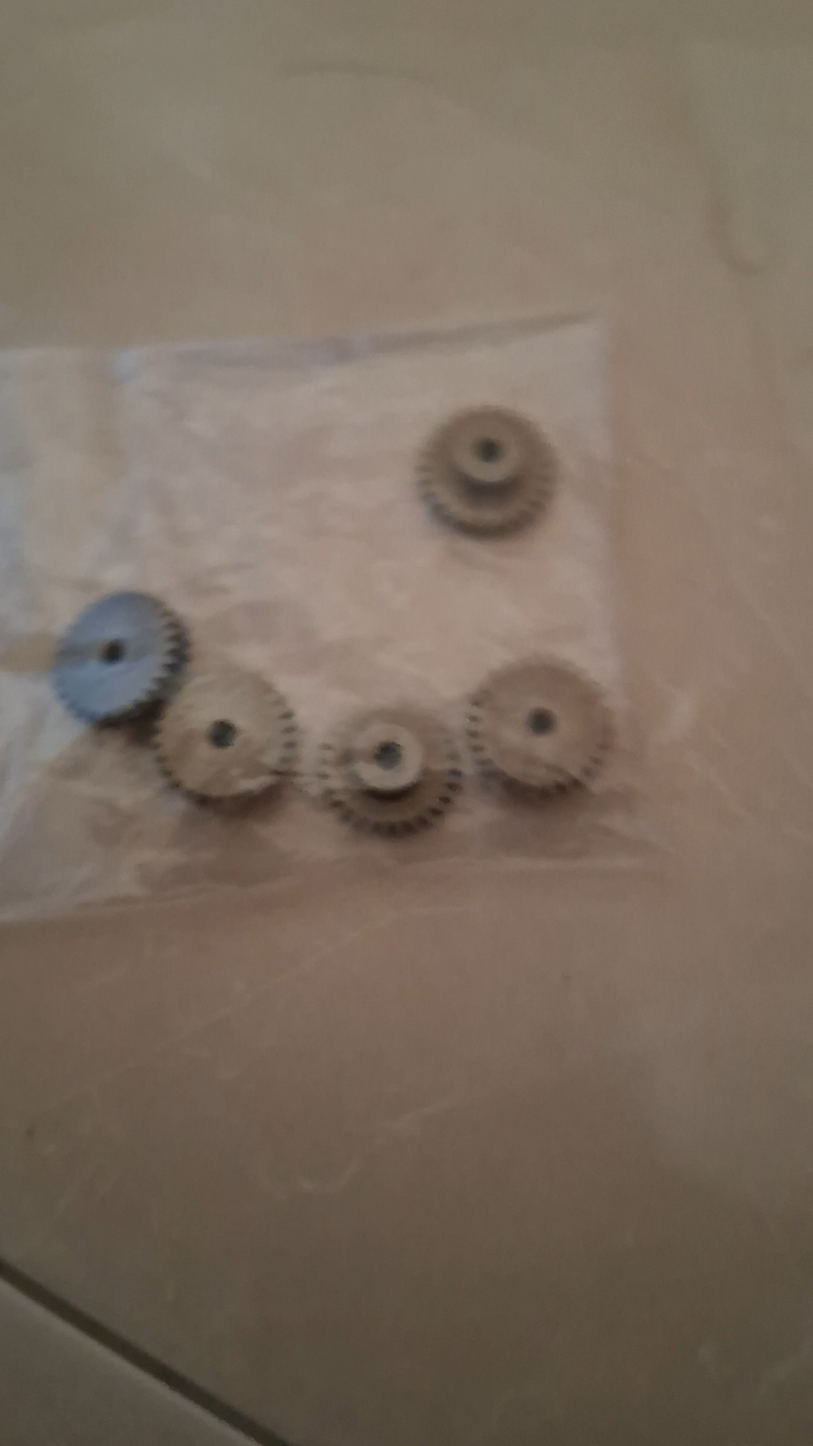spur gear: (467, 661, 611, 794), (154, 668, 295, 799), (320, 708, 461, 836), (52, 593, 189, 723), (418, 407, 556, 535)
